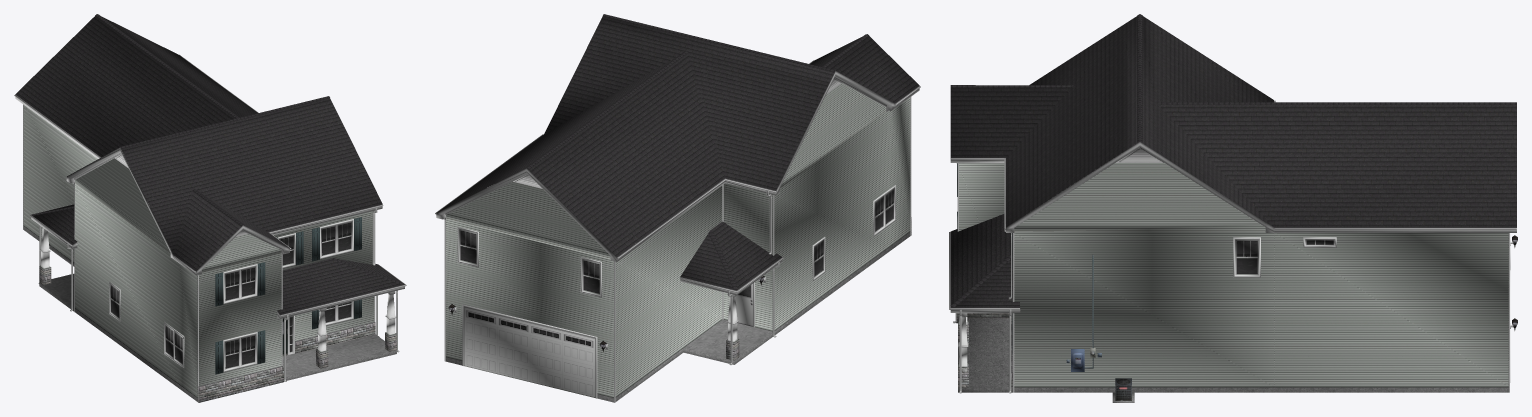
The model's file is Casa.fbx.
3 renders of one model, left to right at view 1: azimuth 30°, elevation 25°; view 2: azimuth 150°, elevation 25°; view 3: azimuth 270°, elevation 25°, orthographic. The views are drawn at different scales.
Parts seen in each view (by area): view 1: house_LOD0; view 2: house_LOD0; view 3: house_LOD0.
Boxes of the visible parts, x1=… form: house_LOD0: x1=14, y1=14, x2=406, y2=402; house_LOD0: x1=435, y1=14, x2=920, y2=402; house_LOD0: x1=949, y1=14, x2=1517, y2=402.
Size of what is drawn, in the model's own units: 5665 by 4955 by 10050.
Materials: 1 (1 with a texture image).
